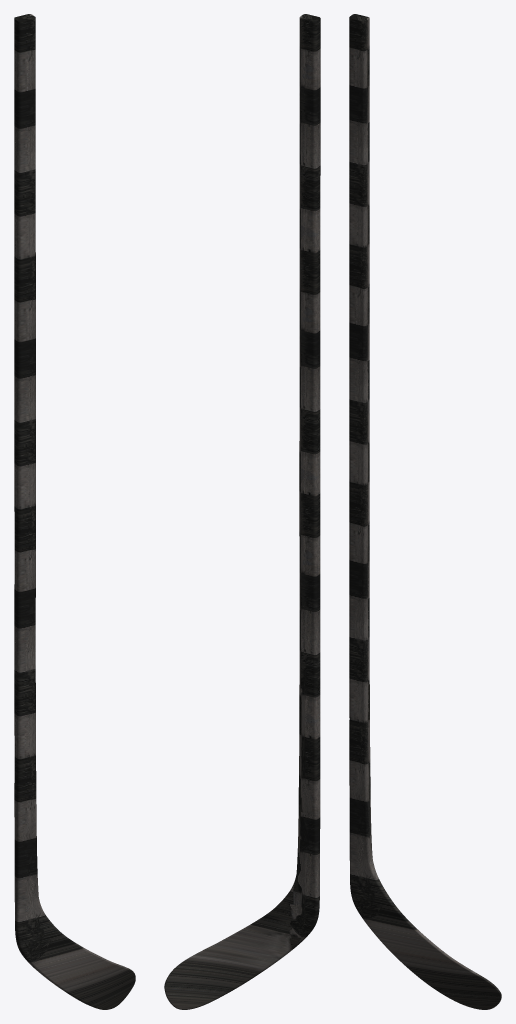
3 renders of one model, left to right at view 1: azimuth 30°, elevation 25°; view 2: azimuth 150°, elevation 25°; view 3: azimuth 330°, elevation 25°, orthographic. The views are drawn at different scales.
Parts seen in each view (by area): view 1: geometry_0; view 2: geometry_0; view 3: geometry_0.
Boxes of the visible parts, bbox=[...] form: geometry_0: bbox=[14, 14, 135, 1009]; geometry_0: bbox=[164, 14, 320, 1009]; geometry_0: bbox=[349, 14, 501, 1009].
Size of the model in its own units: 232 by 1650 by 74.61.
1 material, 1 textured.
